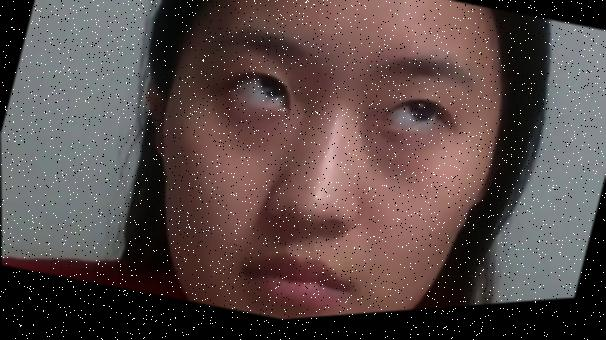eye: (402, 91, 442, 133), (254, 67, 293, 106)
iris: (231, 70, 293, 118), (384, 97, 442, 144)
